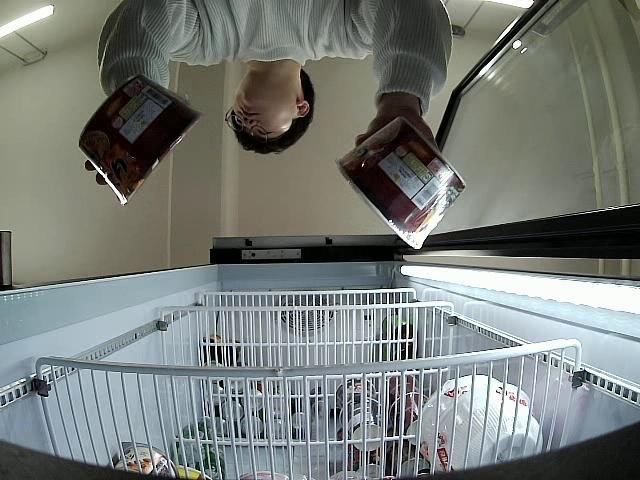05_nuguri_L: (337, 117, 466, 250), (78, 76, 205, 207)
